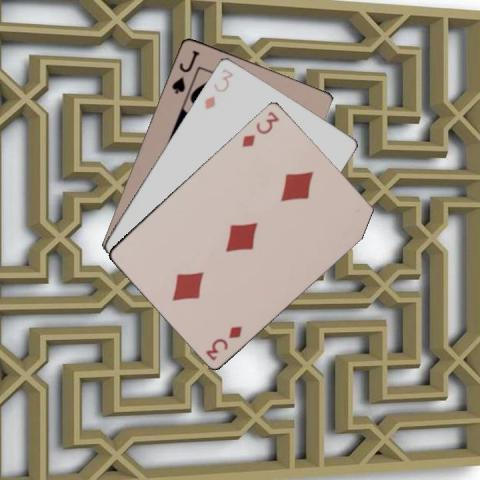3d: (238, 108, 280, 149), (202, 323, 244, 361), (200, 66, 234, 112)
Js: (169, 46, 201, 95)
